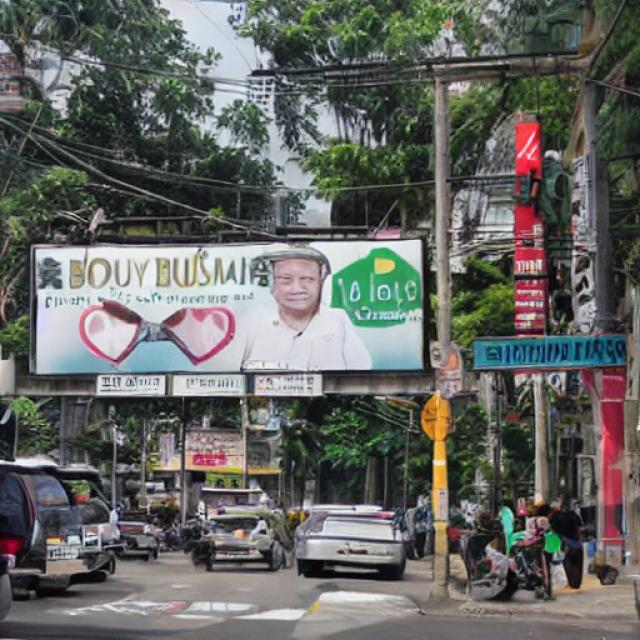Billboard: (25, 239, 431, 377)
